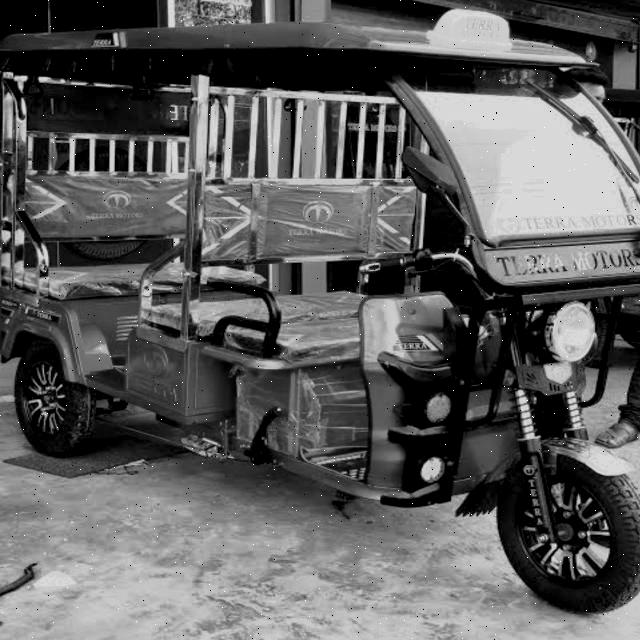Toto: (0, 21, 640, 614)
